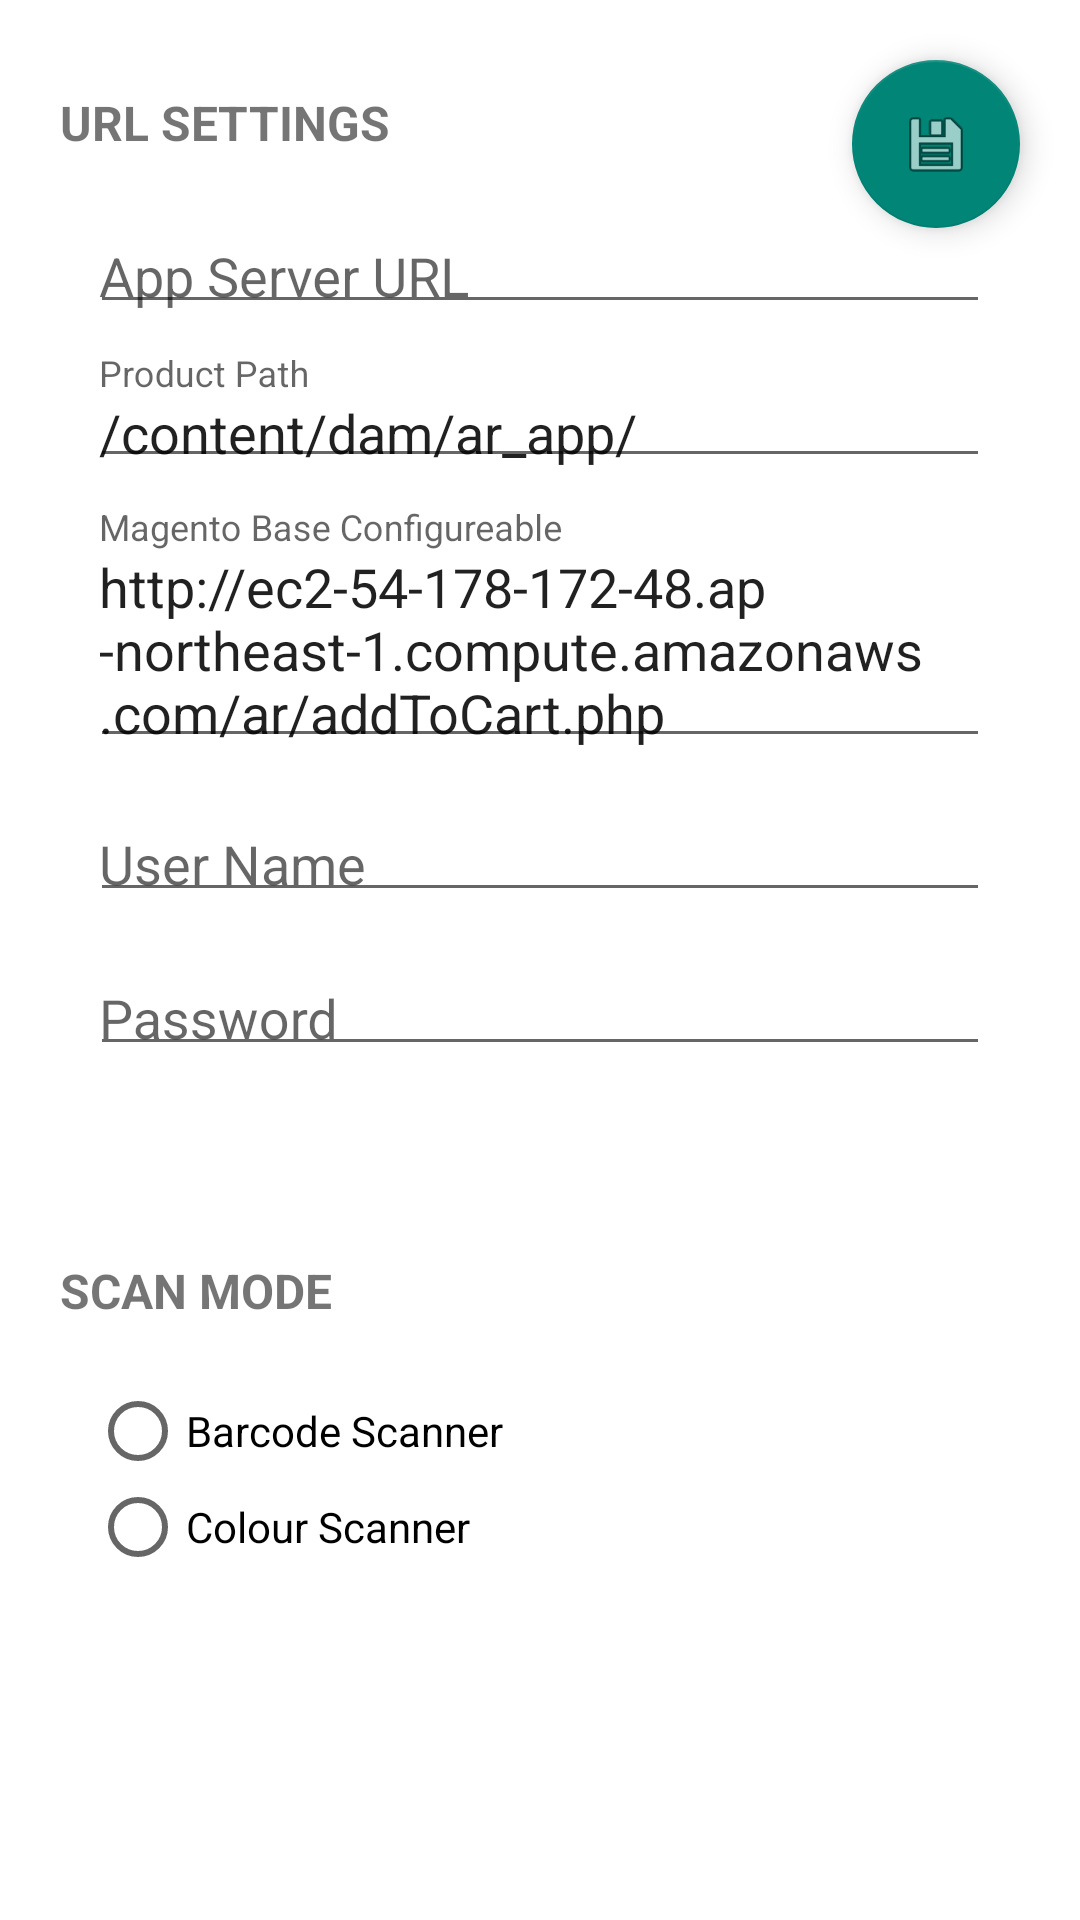

Icon bounding boxes for this 1080w x 1920h phone screenshot, format detection(x1, y1, x2, y2):
save: detection(852, 60, 1020, 228)
